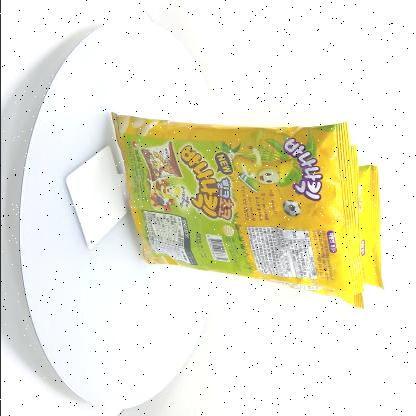Others: (106, 113, 387, 314)
